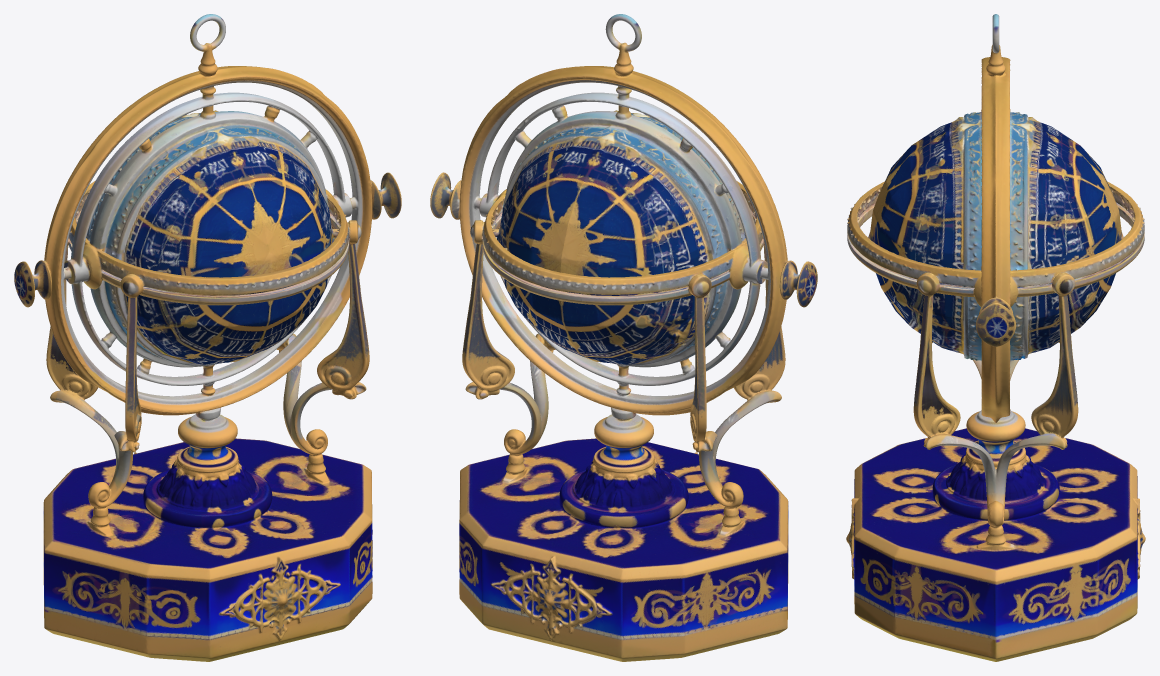
File: Royal_Celestial_Astrolabe.glb
3 renders of one model, left to right at view 1: azimuth 30°, elevation 25°; view 2: azimuth 150°, elevation 25°; view 3: azimuth 270°, elevation 25°, orthographic.
Size of the model in its own units: 1.28 by 1.9 by 0.8998.
Materials: 1 (1 with a texture image).
